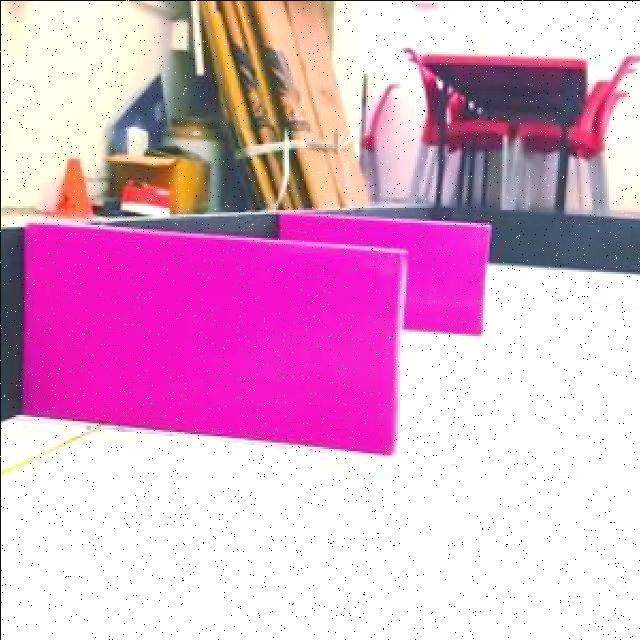xparking: (26, 248, 400, 427), (415, 222, 479, 328)
